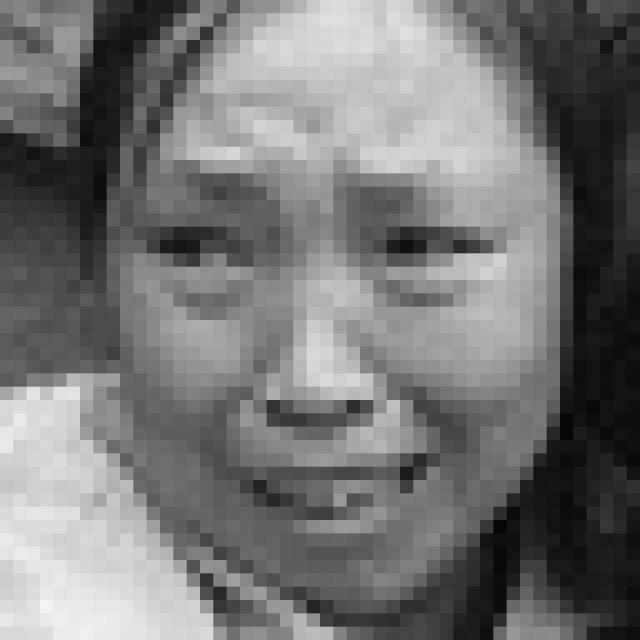sad: (137, 140, 531, 559)
